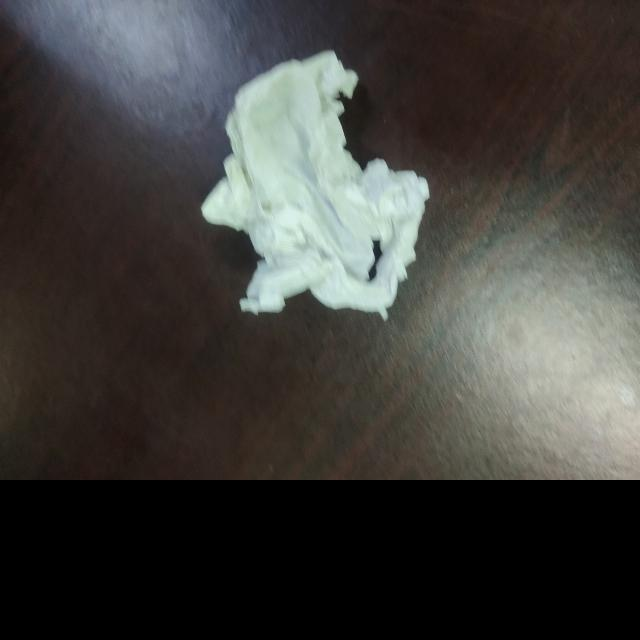kitchen paper: (199, 46, 431, 322)
